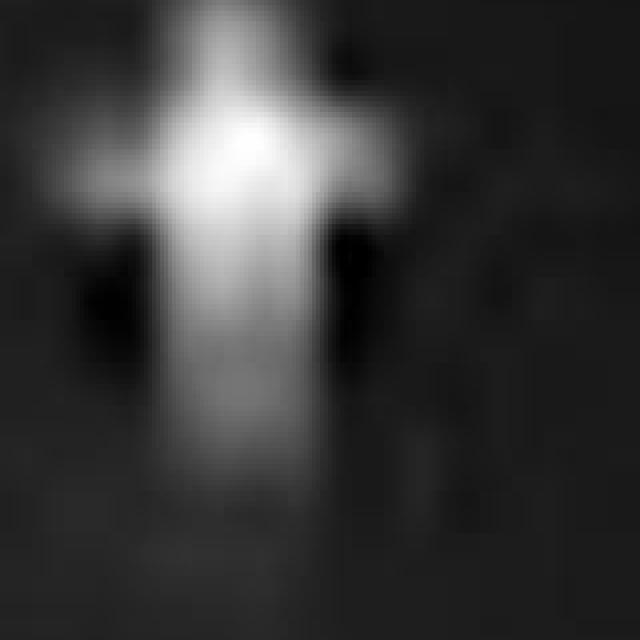person: (65, 1, 369, 492)
